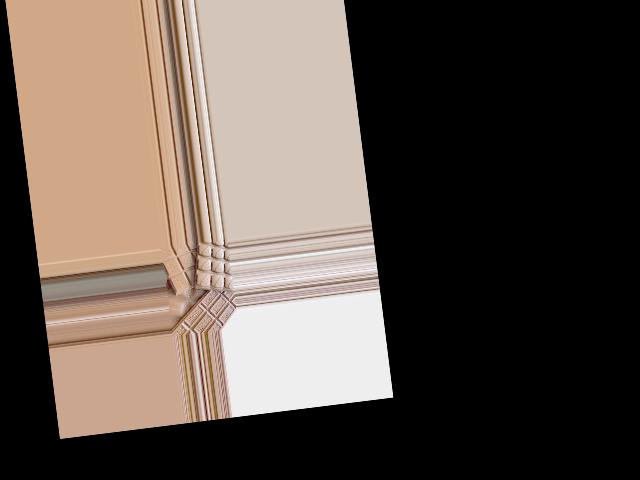chocolate: (164, 241, 209, 295)
